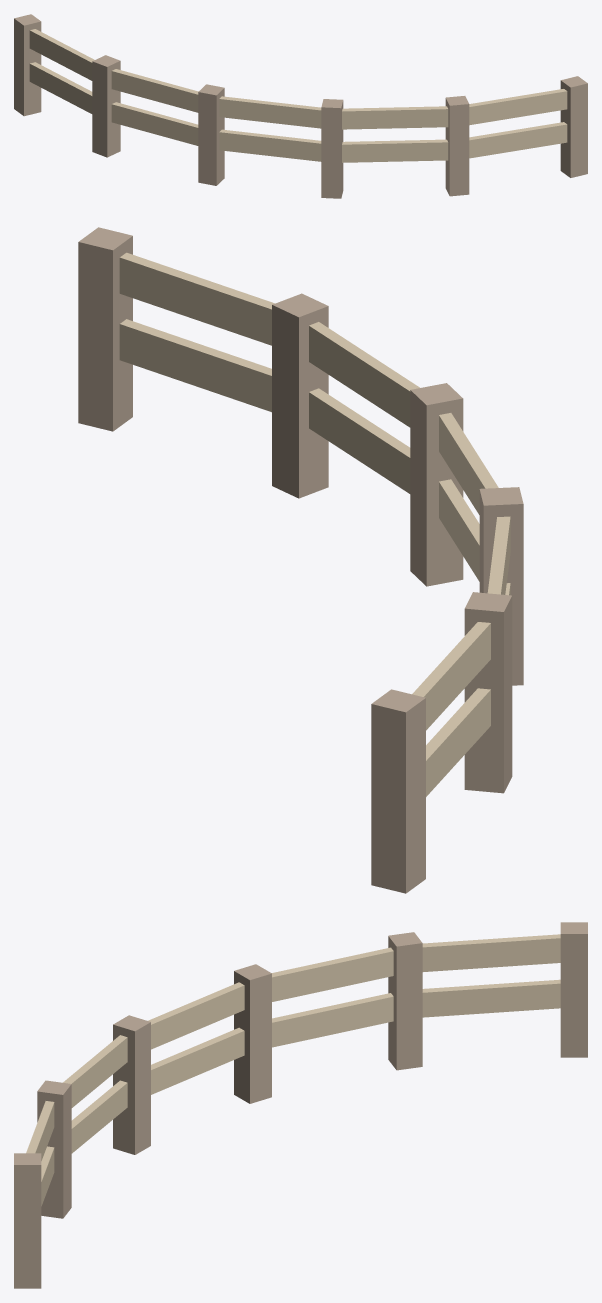
The model's file is Prop_Fence_Curve_3x3.glb.
3 views of the same model, one above another, from view 1: azimuth 30°, elevation 25°; view 2: azimuth 150°, elevation 25°; view 3: azimuth 270°, elevation 25° (orthographic). The views are drawn at different scales.
Parts seen in each view (by area): view 1: object1, object3, object6, object13, object15, object10, object9, object12, object16, object7, object11, object5 (+4 smaller); view 2: object16, object3, object13, object7, object1, object5, object11, object15, object10, object6, object4, object14 (+3 smaller); view 3: object6, object1, object7, object14, object4, object16, object3, object8, object2, object13, object9, object12 (+4 smaller).
Part boxes in pixels (x1,y1,x2,y2): object1: (92, 55, 120, 157); object3: (560, 76, 587, 177); object6: (198, 84, 224, 185); object13: (445, 96, 469, 196); object15: (342, 106, 448, 129); object10: (342, 139, 448, 162); object9: (219, 96, 321, 128); object12: (219, 129, 321, 161); object16: (14, 14, 41, 116); object7: (321, 99, 343, 198); object11: (469, 122, 567, 158); object5: (469, 89, 567, 125); object16: (371, 689, 425, 893); object3: (78, 227, 132, 431); object13: (272, 293, 328, 498); object7: (410, 383, 463, 586); object1: (464, 592, 512, 793); object5: (119, 252, 274, 345); object11: (119, 319, 271, 412); object15: (309, 322, 419, 427); object10: (309, 388, 410, 493); object6: (479, 487, 523, 685); object4: (412, 622, 490, 730); object14: (426, 688, 490, 796); object6: (234, 964, 271, 1103); object1: (388, 932, 422, 1070); object7: (113, 1015, 150, 1154); object14: (422, 979, 560, 1017); object4: (422, 934, 560, 971); object16: (560, 922, 587, 1057); object3: (14, 1153, 41, 1288); object8: (272, 993, 393, 1047); object2: (272, 947, 393, 1001); object13: (37, 1080, 71, 1218); object9: (148, 982, 244, 1049); object12: (151, 1027, 244, 1094).
Bounding box in the file's own units: 3.15 × 0.7498 × 3.15.
